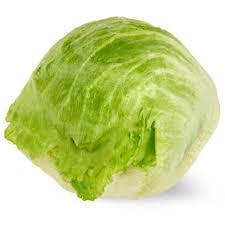lettuce: (2, 16, 220, 198)
